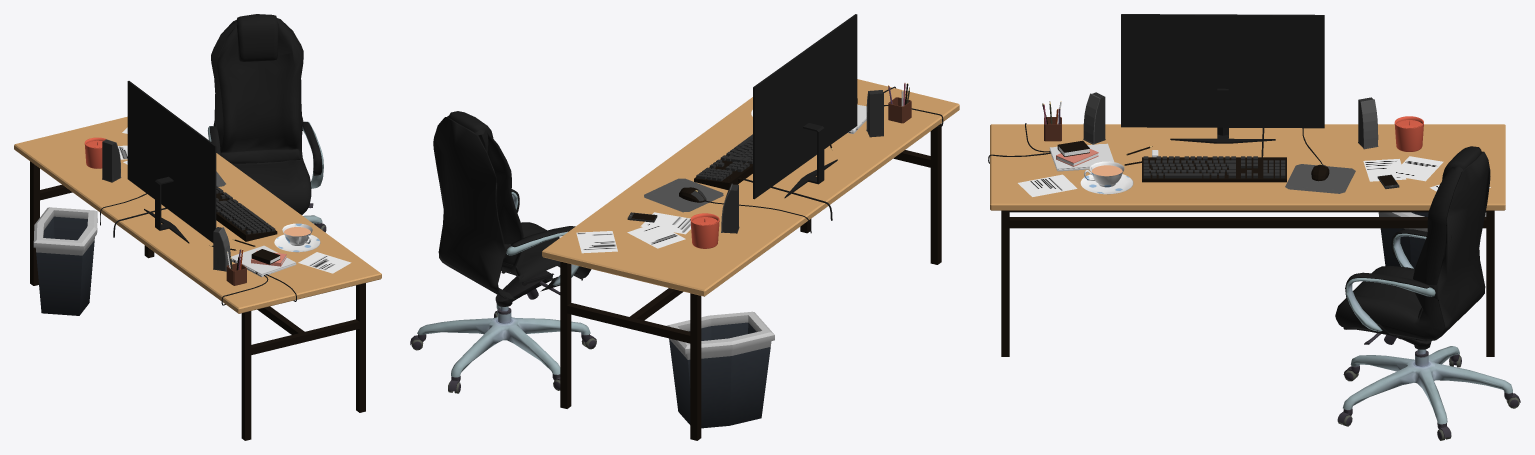
File: desk.glb
The picture shows the model from 3 angles, left to right: view 1: azimuth 30°, elevation 25°; view 2: azimuth 150°, elevation 25°; view 3: azimuth 270°, elevation 25°; orthographic projection. The views are drawn at different scales.
Visible parts, largest first — view 1: Desk_Desk_0.001, officeChair, Cube_0.003, Cube.001_2, Desk, PC_Keyboard, PC_Speaker, Paper, Notebook_Notebook_0, Object_2.004, pCylinder1, Books_Books_0 (+1 smaller); view 2: Desk_Desk_0.001, officeChair, Cube_0.003, Cube.001_2, Desk, Paper, PC_Keyboard, PC_Speaker, Mousepad, Object_2.004; view 3: Desk_Desk_0.001, Cube_0.003, officeChair, Desk, PC_Keyboard, Paper, PC_Speaker, Mousepad, Cube.001_2, Object_2.004, Books_Books_0, Notebook_Notebook_0 (+1 smaller).
Boxes of the visible parts, x1=… form: Desk_Desk_0.001: x1=14, y1=116, x2=381, y2=313; officeChair: x1=207, y1=14, x2=326, y2=232; Cube_0.003: x1=127, y1=81, x2=216, y2=243; Cube.001_2: x1=33, y1=207, x2=97, y2=315; Desk: x1=30, y1=161, x2=365, y2=440; PC_Keyboard: x1=216, y1=186, x2=277, y2=241; PC_Speaker: x1=102, y1=139, x2=230, y2=271; Paper: x1=118, y1=127, x2=351, y2=273; Notebook_Notebook_0: x1=231, y1=245, x2=296, y2=277; Object_2.004: x1=84, y1=137, x2=106, y2=168; pCylinder1: x1=274, y1=234, x2=320, y2=252; Books_Books_0: x1=251, y1=249, x2=286, y2=266; Desk_Desk_0.001: x1=542, y1=79, x2=959, y2=296; officeChair: x1=410, y1=111, x2=596, y2=393; Cube_0.003: x1=753, y1=14, x2=857, y2=199; Cube.001_2: x1=666, y1=311, x2=774, y2=428; Desk: x1=560, y1=123, x2=941, y2=440; Paper: x1=576, y1=212, x2=690, y2=253; PC_Keyboard: x1=694, y1=134, x2=752, y2=190; PC_Speaker: x1=721, y1=90, x2=883, y2=233; Mousepad: x1=644, y1=178, x2=723, y2=212; Object_2.004: x1=690, y1=213, x2=719, y2=248; Desk_Desk_0.001: x1=990, y1=124, x2=1505, y2=210; Cube_0.003: x1=1121, y1=14, x2=1324, y2=143; officeChair: x1=1335, y1=146, x2=1520, y2=440; Desk: x1=1001, y1=210, x2=1494, y2=356; PC_Keyboard: x1=1142, y1=156, x2=1286, y2=182; Paper: x1=1018, y1=156, x2=1490, y2=196; PC_Speaker: x1=1083, y1=92, x2=1378, y2=149; Mousepad: x1=1285, y1=164, x2=1355, y2=193; Cube.001_2: x1=1378, y1=212, x2=1486, y2=268; Object_2.004: x1=1394, y1=116, x2=1423, y2=151; Books_Books_0: x1=1056, y1=140, x2=1098, y2=166; Notebook_Notebook_0: x1=1049, y1=143, x2=1114, y2=171.
Size of the model in its own units: 21.47 by 16.93 by 28.18.
22 materials, 16 textured.
